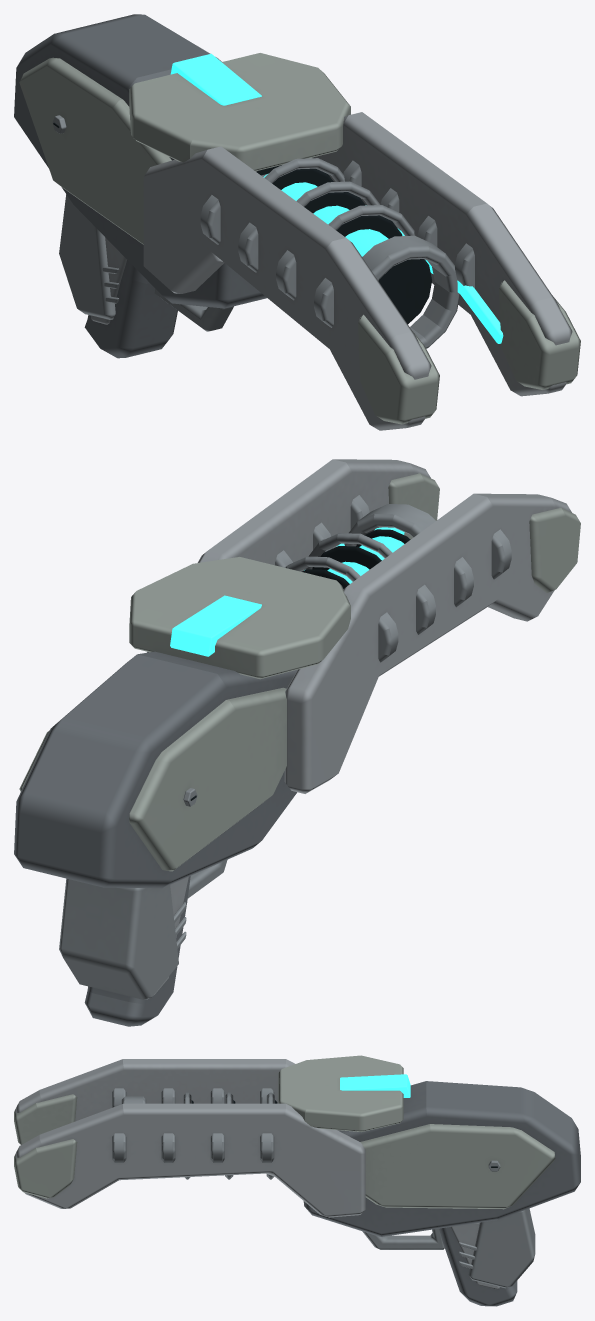
File: plasma.glb
The picture shows the model from 3 angles, top to bottom: view 1: azimuth 30°, elevation 25°; view 2: azimuth 150°, elevation 25°; view 3: azimuth 270°, elevation 25°; orthographic projection. The views are drawn at different scales.
Parts seen in each view (by area): view 1: plasma-ka12-arsenal; view 2: plasma-ka12-arsenal; view 3: plasma-ka12-arsenal.
Part boxes in pixels (x1,y1,x2,y2): plasma-ka12-arsenal: [14, 14, 580, 430]; plasma-ka12-arsenal: [14, 459, 580, 1026]; plasma-ka12-arsenal: [14, 1055, 580, 1306].
Size of the model in its own units: 0.38 by 0.6425 by 1.5.
1 material, 1 textured.
